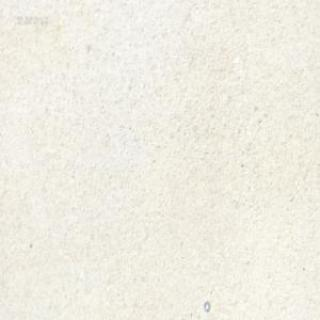Washertrack_idkeyframe: (202, 299, 209, 312)
